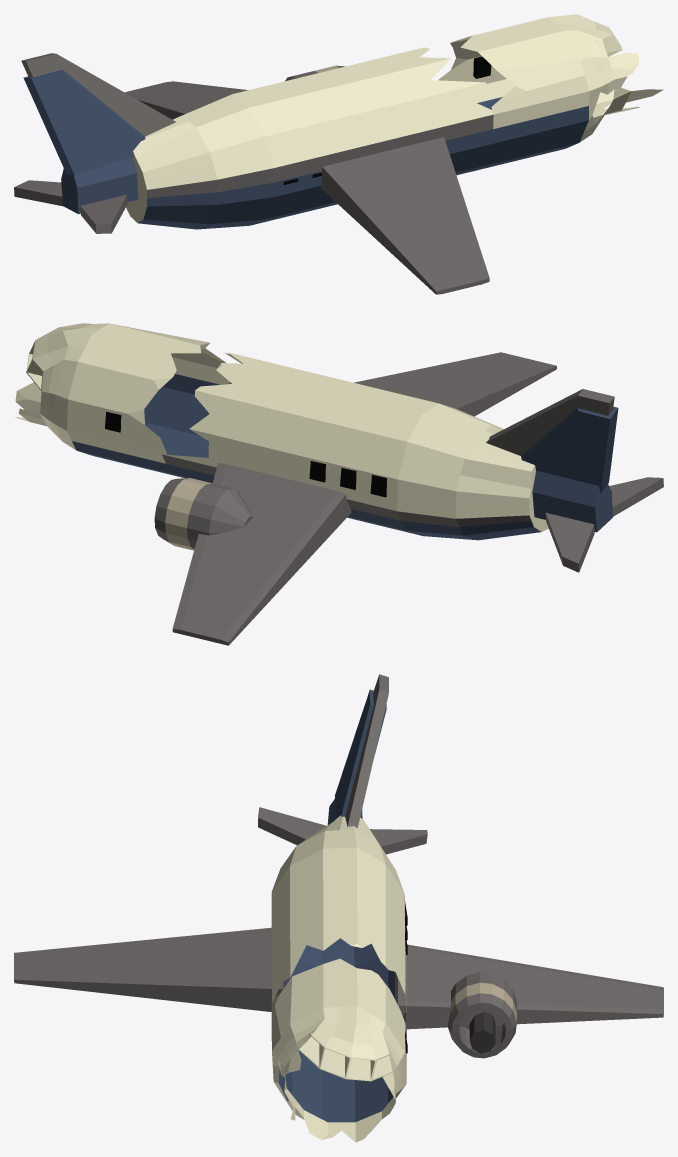
Rendered from plane_updated.glb.
3 views of the same model, one above another, from view 1: azimuth 30°, elevation 25°; view 2: azimuth 150°, elevation 25°; view 3: azimuth 270°, elevation 25° (orthographic). The views are drawn at different scales.
Parts seen in each view (by area): view 1: Cube.050, Cube.052, Cube.058, Cube.049, Cube.054, Cube.057, Cube.056, Cube.055; view 2: Cube.050, Cube.052, Cube.057, Cube.049, Cube.058, Cube.053, Cube.054, Cube.055, Cube.056; view 3: Cube.052, Cube.050, Cube.058, Cube.057, Cube.053, Cube.049, Cube.056, Cube.055, Cube.059.
Part boxes in pixels (bbox=[...]): Cube.050: bbox=[126, 47, 493, 229]; Cube.052: bbox=[438, 14, 663, 171]; Cube.058: bbox=[321, 137, 489, 294]; Cube.049: bbox=[21, 53, 175, 175]; Cube.054: bbox=[61, 157, 138, 214]; Cube.057: bbox=[125, 81, 248, 119]; Cube.056: bbox=[80, 194, 127, 233]; Cube.055: bbox=[14, 180, 62, 206]; Cube.050: bbox=[162, 352, 548, 540]; Cube.052: bbox=[14, 323, 229, 477]; Cube.057: bbox=[172, 463, 351, 645]; Cube.049: bbox=[486, 389, 618, 493]; Cube.058: bbox=[354, 352, 556, 416]; Cube.053: bbox=[154, 478, 252, 550]; Cube.054: bbox=[532, 470, 612, 532]; Cube.055: bbox=[545, 512, 594, 572]; Cube.056: bbox=[609, 477, 663, 516]; Cube.052: bbox=[271, 958, 406, 1142]; Cube.050: bbox=[271, 815, 406, 1082]; Cube.058: bbox=[14, 927, 284, 1011]; Cube.057: bbox=[395, 944, 663, 1029]; Cube.053: bbox=[447, 972, 516, 1058]; Cube.049: bbox=[335, 674, 388, 828]; Cube.056: bbox=[258, 807, 326, 845]; Cube.055: bbox=[370, 829, 427, 854]; Cube.059: bbox=[469, 1012, 495, 1053].
Bounding box in the file's own units: 31.79 × 9.93 × 29.23.
